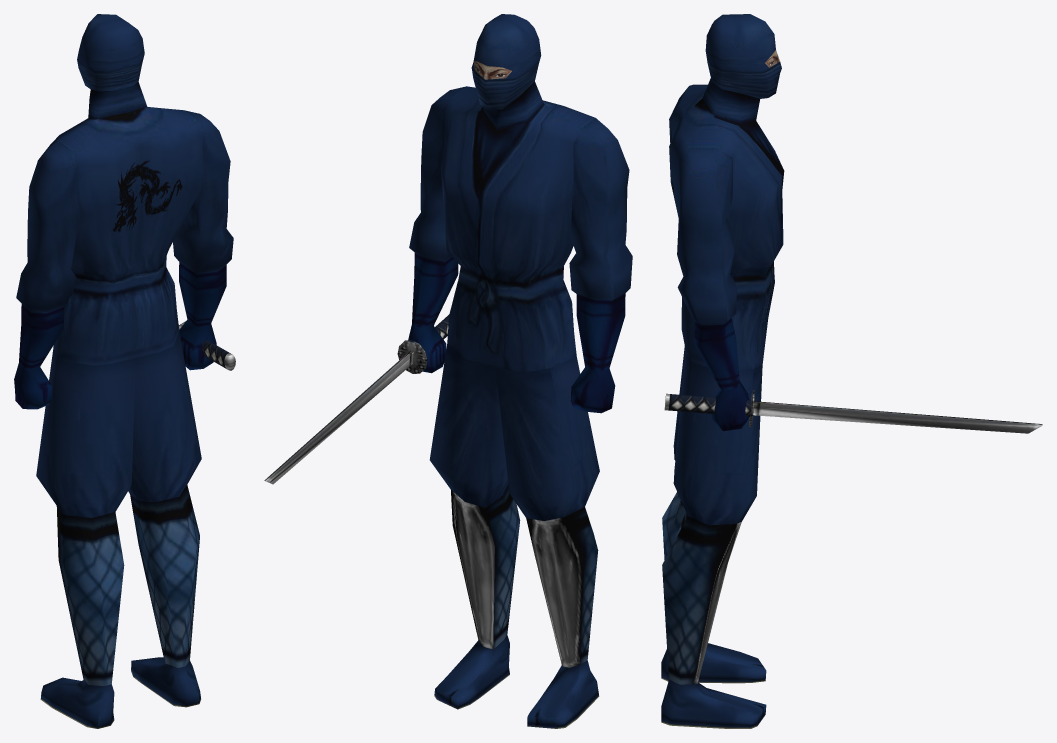
File: ninja.obj
The picture shows the model from 3 angles, left to right: view 1: azimuth 30°, elevation 25°; view 2: azimuth 150°, elevation 25°; view 3: azimuth 270°, elevation 25°; orthographic projection. The views are drawn at different scales.
Parts seen in each view (by area): view 1: ROOT; view 2: ROOT; view 3: ROOT.
Part boxes in pixels (box(x1,y1,x2,y2)): ROOT: box(14, 14, 235, 728); ROOT: box(264, 14, 632, 728); ROOT: box(661, 14, 1042, 728).
Bounding box in the file's own units: 3.05 × 9.58 × 4.87.
